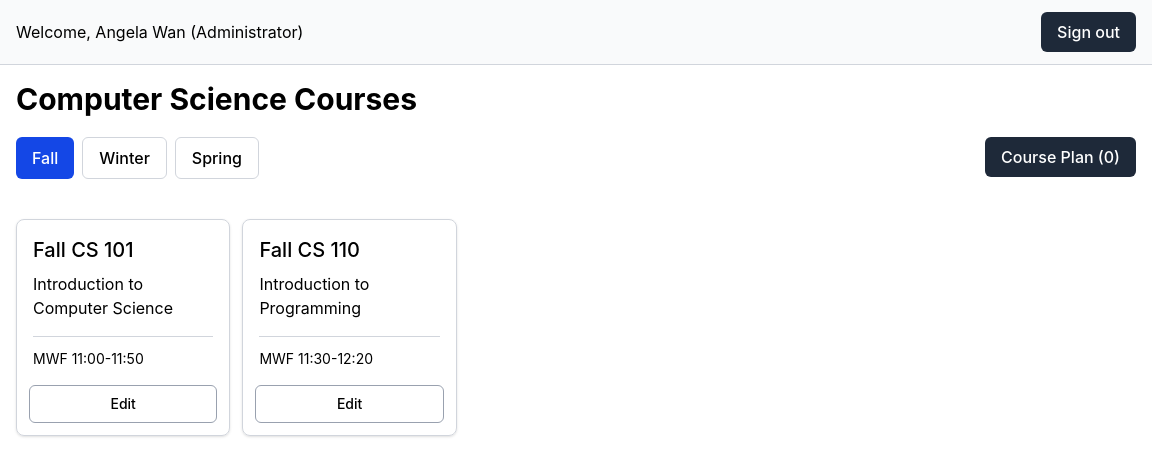
Test: time conflicts › blocks a conflicting course until the selected course is removed
Click the button with aria-label "Select Fall CS 101": (123, 302) [17,220,229,385]
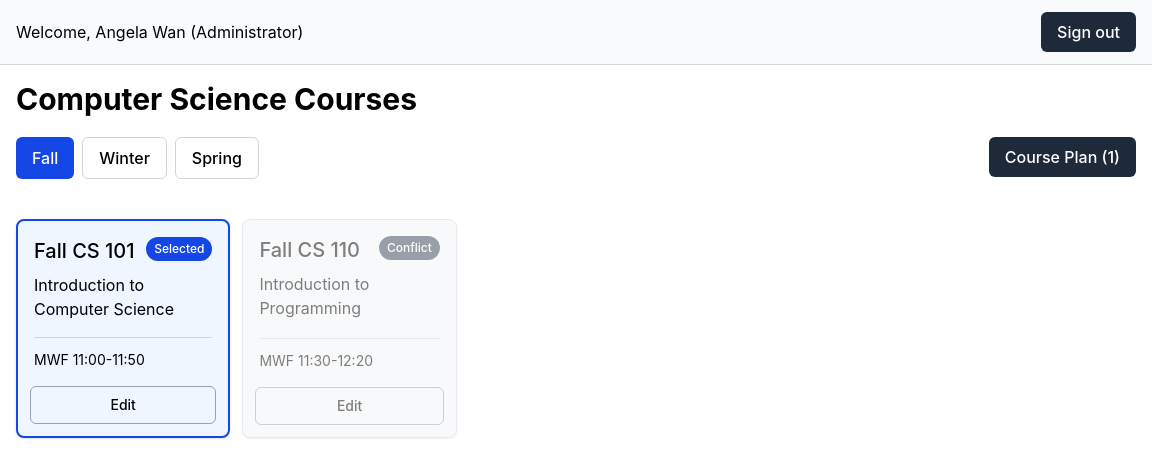
Now the button with aria-label "Unavailable Fall CS 110" is disabled, box [243,220,456,387]
Now the button with aria-label "Unavailable Fall CS 110" shows "Conflict", box [243,220,456,387]
Click the button with aria-label "Unselect Fall CS 101": (123, 304) [18,221,228,386]
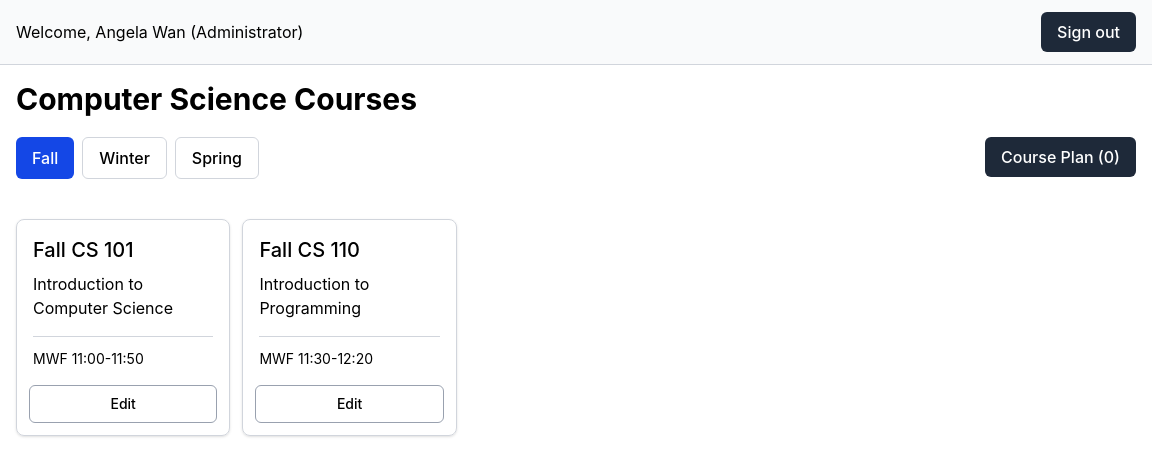
Now the button with aria-label "Select Fall CS 110" is enabled, box [243,220,456,385]
